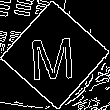M_N: (30, 28, 80, 82)
